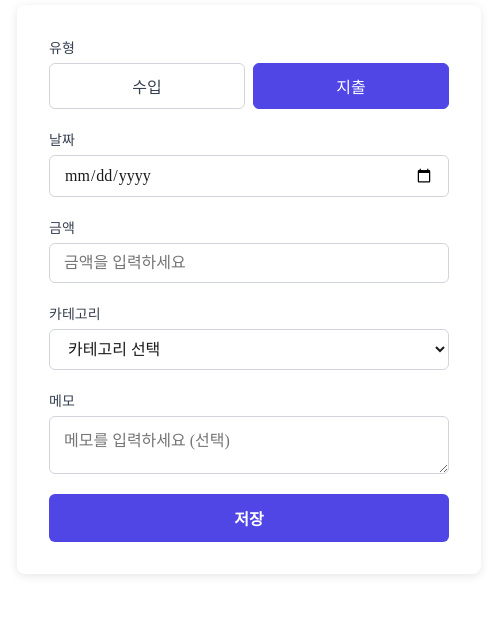
it: TransactionForm › 금액이 0 이하면 에러를 표시한다
The width and height of the screenshot is (499, 619).
Type "2026-06-05" into the date field labelled "날짜" at (249, 176), box [49, 155, 449, 197]
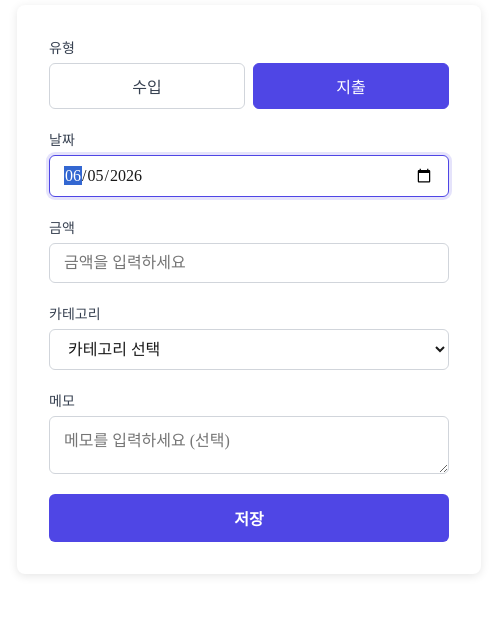
Type "-1000" into the number field labelled "금액" at (249, 263), box [49, 243, 449, 283]
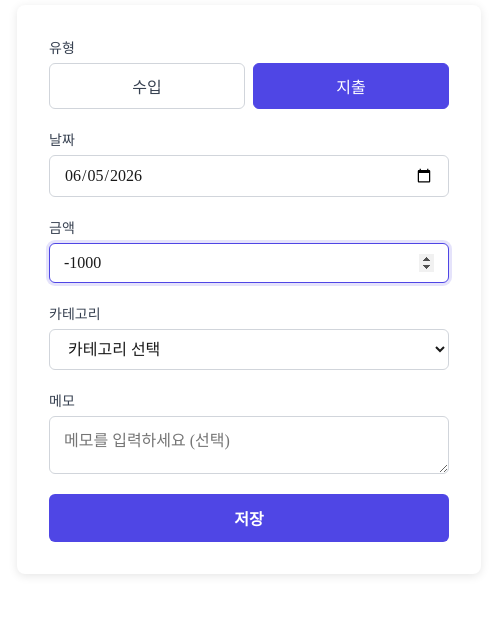
Select "식비" in the dropdown labelled "카테고리" at (249, 350), box [49, 329, 449, 370]
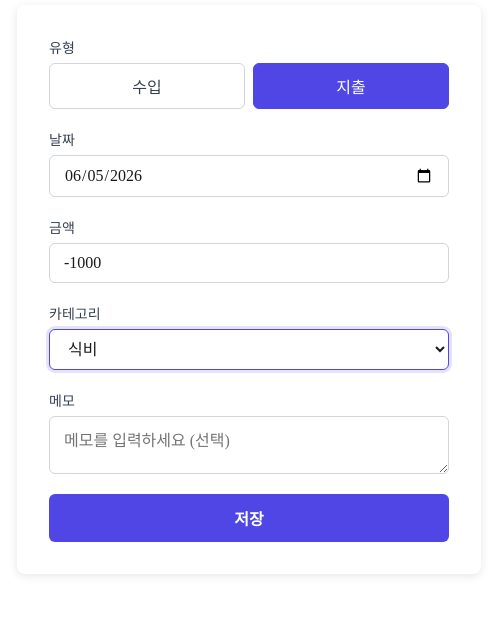
Click the button "저장" at (249, 518), box [49, 494, 449, 542]
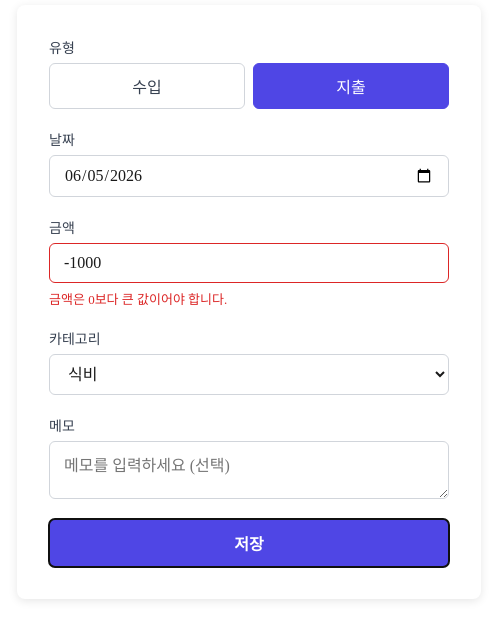
Expected: the text "금액은 0보다 큰 값이어야 합니다." is shown, [49, 292, 227, 307]
